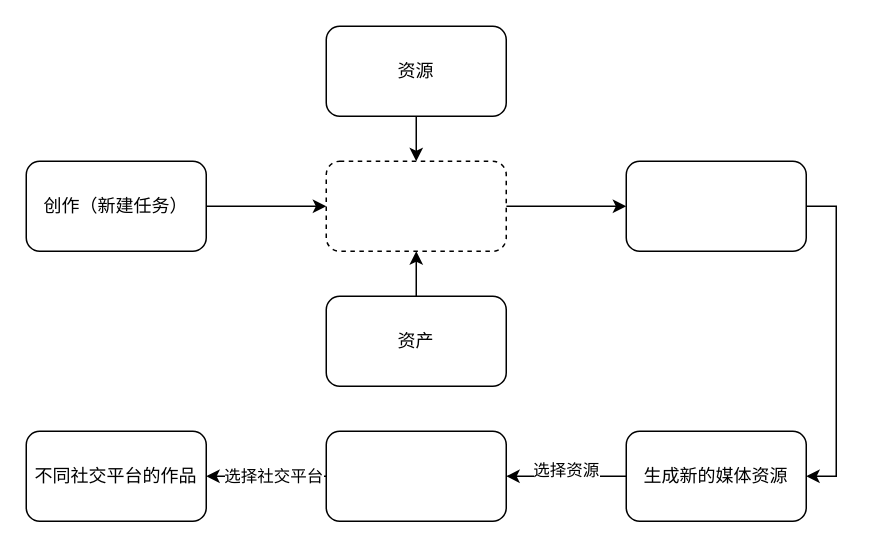
This 875x548 diagram has some shape labels left out. The centre of each missing label's shape, as x and y in pixels:
"主题 （需要填写其他影响选项）" belongs at (x=715, y=205).
"生成文案" belongs at (x=415, y=475).
"选择参考数据" belongs at (x=415, y=205).
